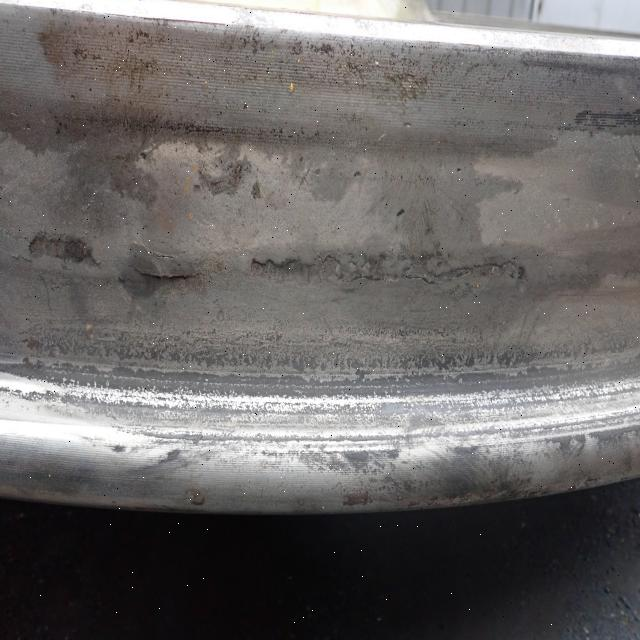boli: (234, 250, 520, 288), (125, 254, 199, 312)
